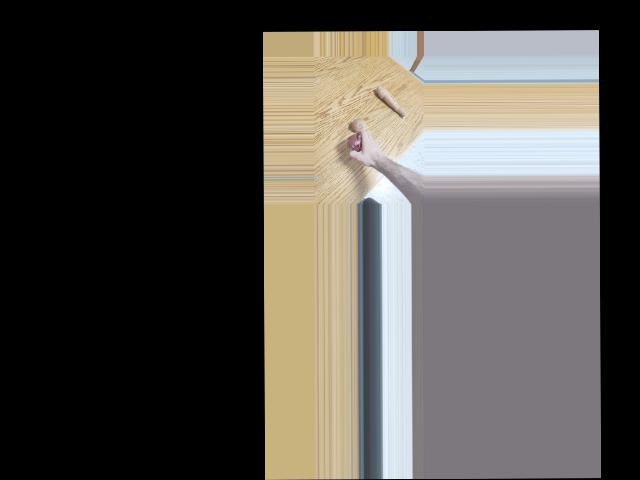onion: (351, 117, 367, 134)
